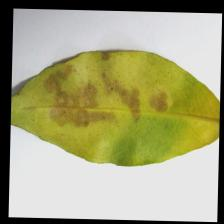canker: (34, 45, 175, 136)
